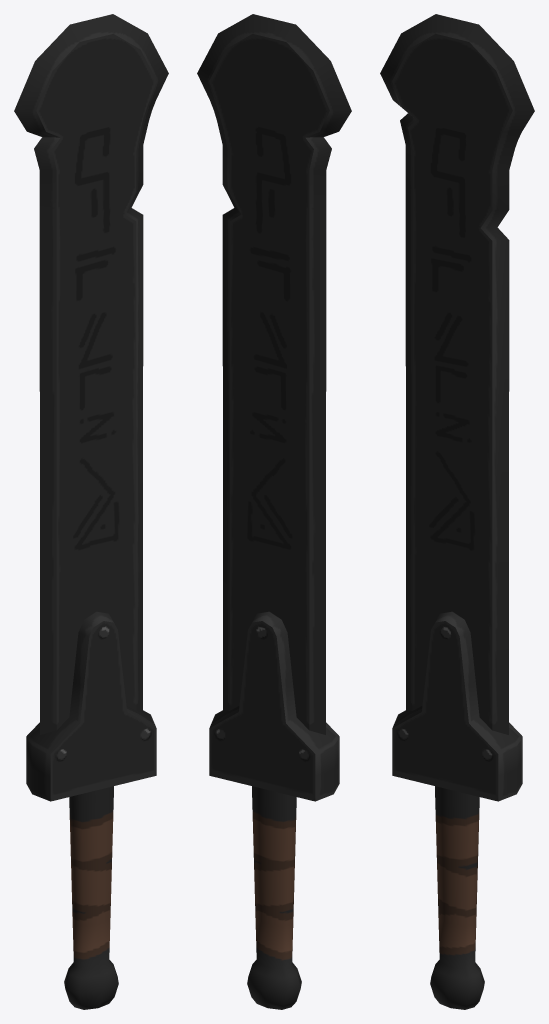
The model's file is Demon-Blade.fbx.
The picture shows the model from 3 angles, left to right: view 1: azimuth 30°, elevation 25°; view 2: azimuth 150°, elevation 25°; view 3: azimuth 330°, elevation 25°; orthographic projection.
Visible parts, largest first — view 1: Cube; view 2: Cube; view 3: Cube.
Part boxes in pixels (x1,y1,x2,y2): Cube: (14,14,168,1009); Cube: (197,14,351,1009); Cube: (380,14,534,1009).
Bounding box in the file's own units: 101 × 611 × 27.33.
